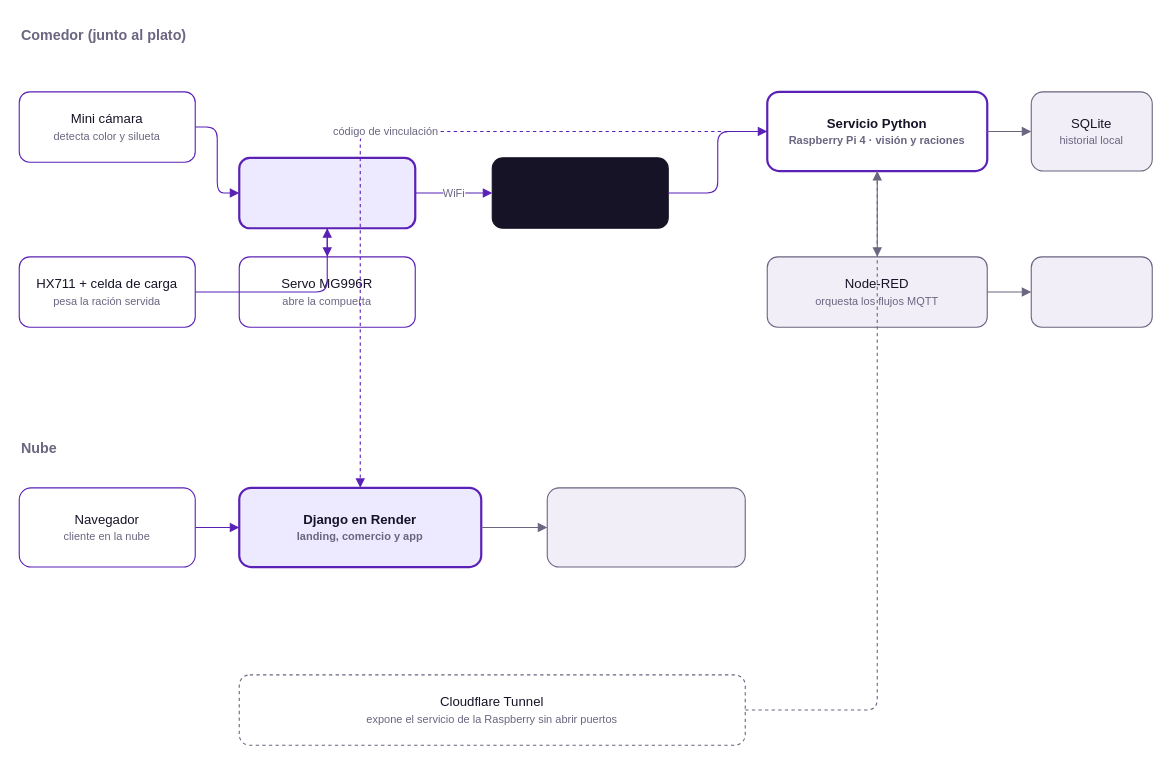
Image size: 1172x765. Some labels were removed from this diagram. Each missing label, with the centre of its shape:
Base de datos cuentas, mascotas, historial: the point at 645,527
Broker MQTT Mosquitto: the point at 579,192
Dashboard Node-RED UI: the point at 1091,291
ESP32-S3 controla servo y pesaje: the point at 327,192
